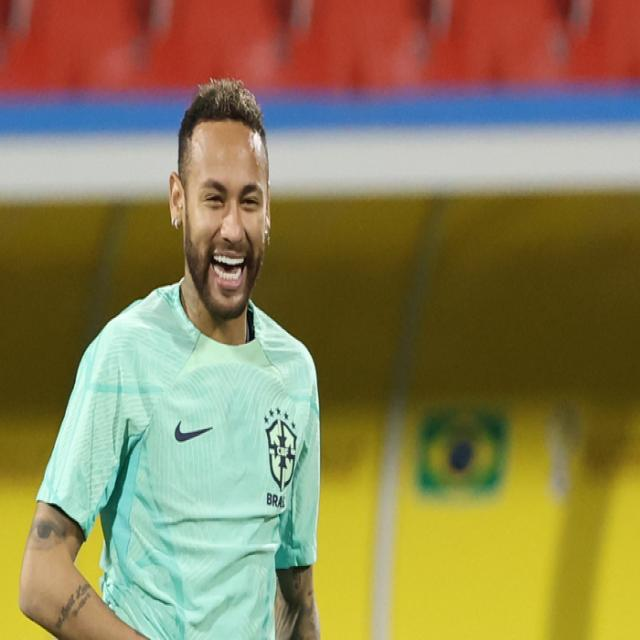neymar: (164, 82, 278, 313)
